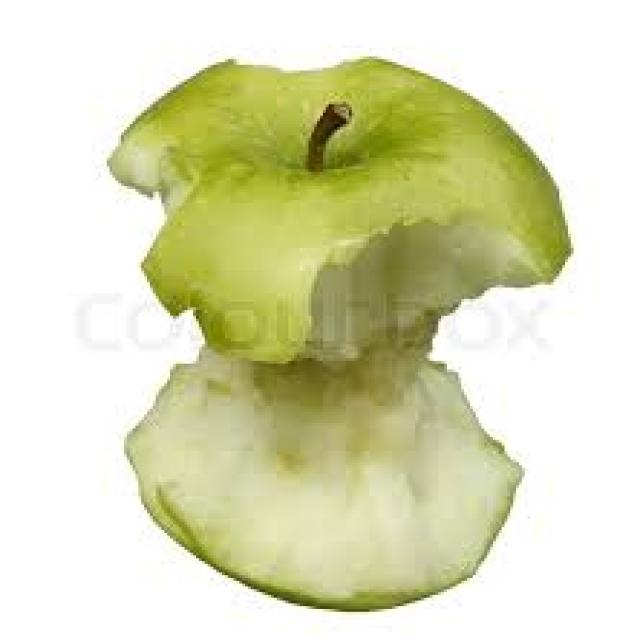Apple: (108, 48, 568, 612)
